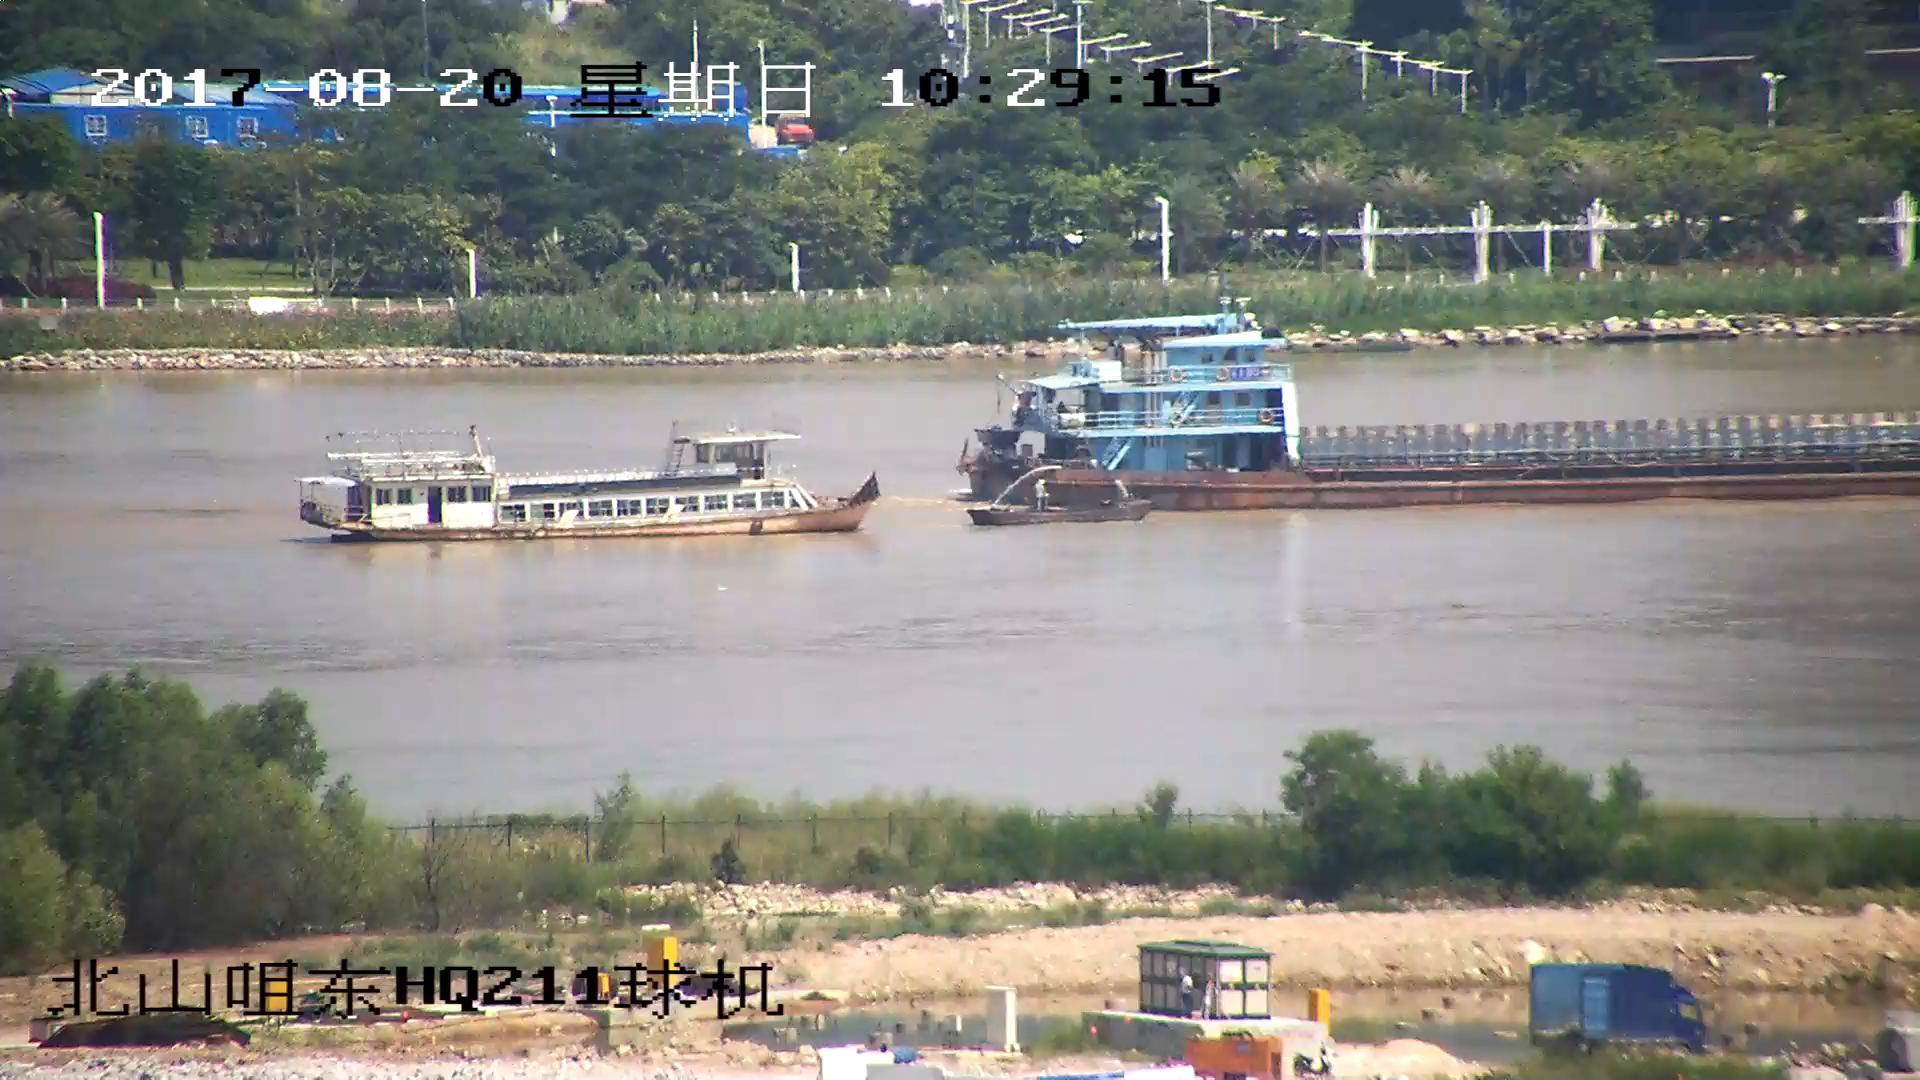Ship: (949, 311, 1920, 508), (294, 419, 881, 547), (969, 477, 1154, 527)
